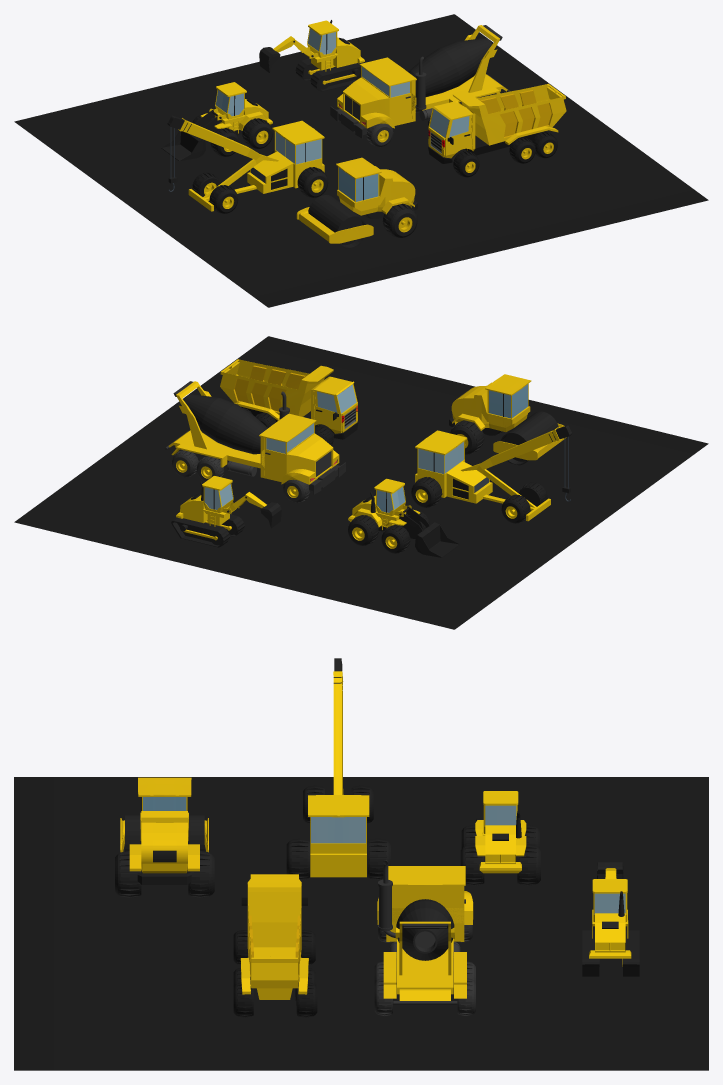
Rendered from Construction 1.1.fbx.
3 renders of one model, top to bottom at view 1: azimuth 30°, elevation 25°; view 2: azimuth 150°, elevation 25°; view 3: azimuth 270°, elevation 25°, orthographic. The views are drawn at different scales.
Visible parts, largest first — view 1: Ground, Cylinder 1, Side_Mudguard, Wheel_Left_Back.002, Wheel_Left_Back.001, Wheel_Right_Back, Body.003; view 2: Ground, Cylinder 1, Wheel_Left_Back.002, Side_Mudguard, Wheel_Left_Back.001, Wheel_Right_Back, Body.003; view 3: Ground, Cylinder 1, Side_Mudguard, Wheel_Left_Back.001, Wheel_Left_Back.002, Wheel_Right_Back, Body.003.
Boxes of the visible parts, <box> form: Ground: <box>14,14,708,307</box>; Cylinder 1: <box>330,25,510,147</box>; Side_Mudguard: <box>428,83,566,177</box>; Wheel_Left_Back.002: <box>167,115,328,213</box>; Wheel_Left_Back.001: <box>296,157,417,248</box>; Wheel_Right_Back: <box>161,82,273,161</box>; Body.003: <box>259,20,364,91</box>; Ground: <box>14,336,708,629</box>; Cylinder 1: <box>164,381,345,503</box>; Wheel_Left_Back.002: <box>411,425,571,523</box>; Side_Mudguard: <box>220,359,358,445</box>; Wheel_Left_Back.001: <box>449,374,566,465</box>; Wheel_Right_Back: <box>348,478,459,557</box>; Body.003: <box>171,476,281,547</box>; Ground: <box>14,777,708,1070</box>; Cylinder 1: <box>374,860,475,1016</box>; Side_Mudguard: <box>233,874,317,1017</box>; Wheel_Left_Back.001: <box>115,777,214,897</box>; Wheel_Left_Back.002: <box>286,658,390,879</box>; Wheel_Right_Back: <box>460,791,540,885</box>; Body.003: <box>582,862,639,976</box>.
Size of the model in its own units: 5670 by 1235 by 5670.
1 material, 1 textured.
